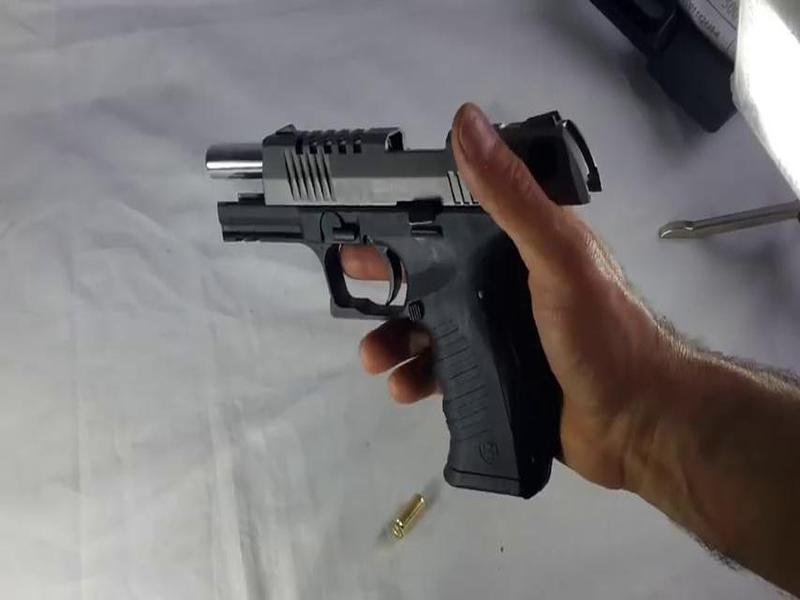Pistola: (200, 71, 626, 534)
